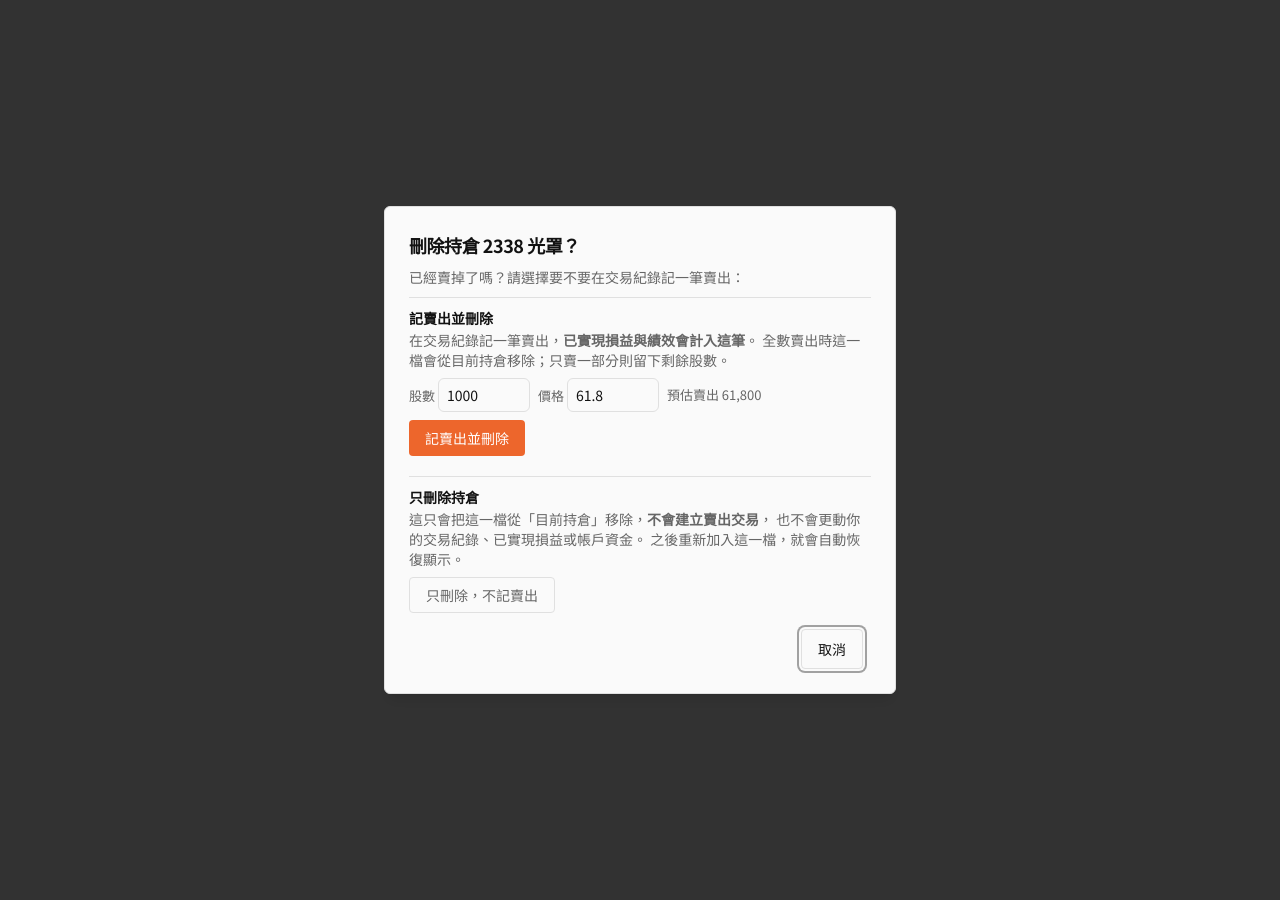
HoldingDeleteDialog 二選一 › oversell：顯示錯誤且不送出
Replace the text in the number field with test id "holding-delete-sell-qty" with "2000" at {"x": 484, "y": 395}, box [438, 378, 530, 412]
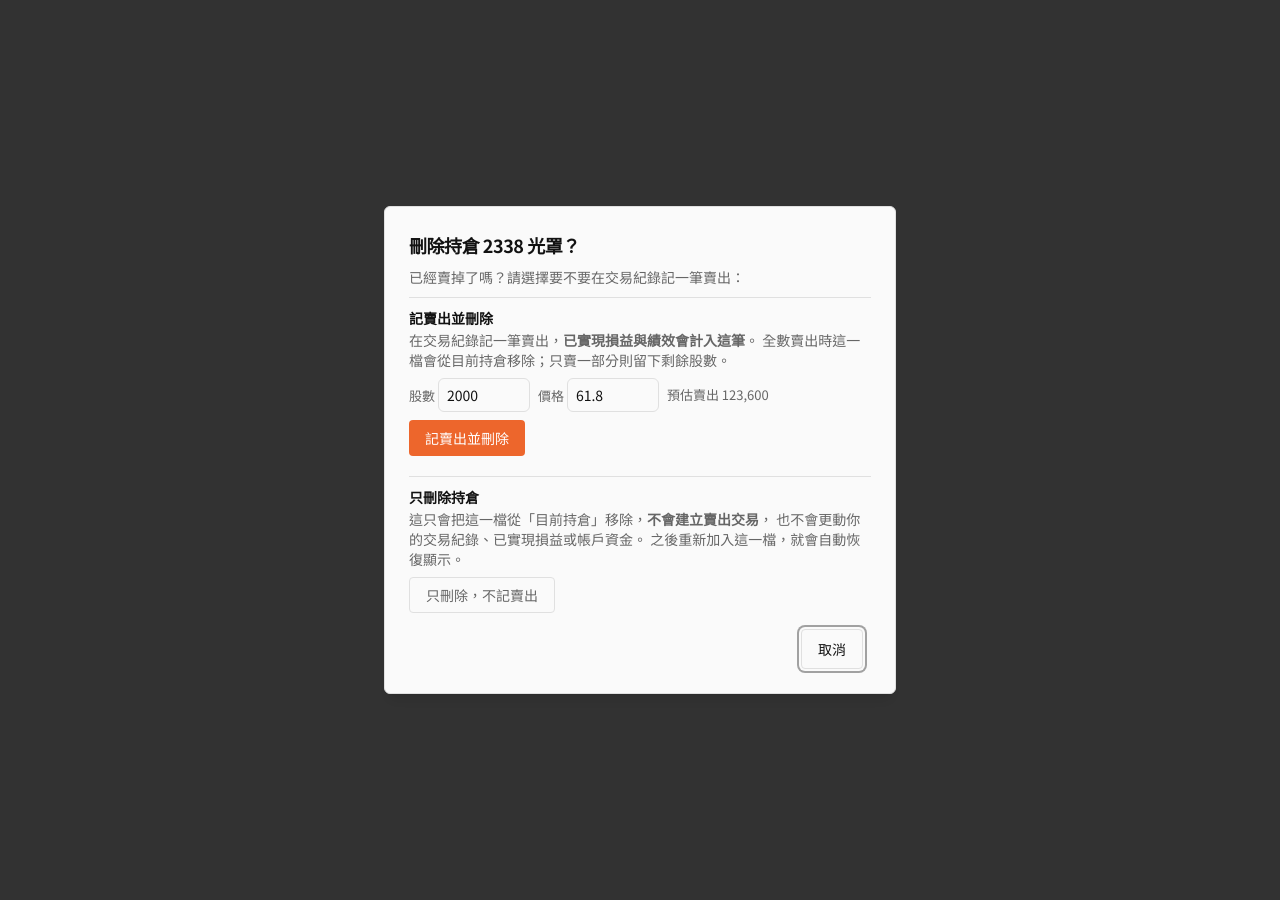
Click the button with test id "holding-delete-sell".
click(467, 438)  # box [409, 420, 525, 456]
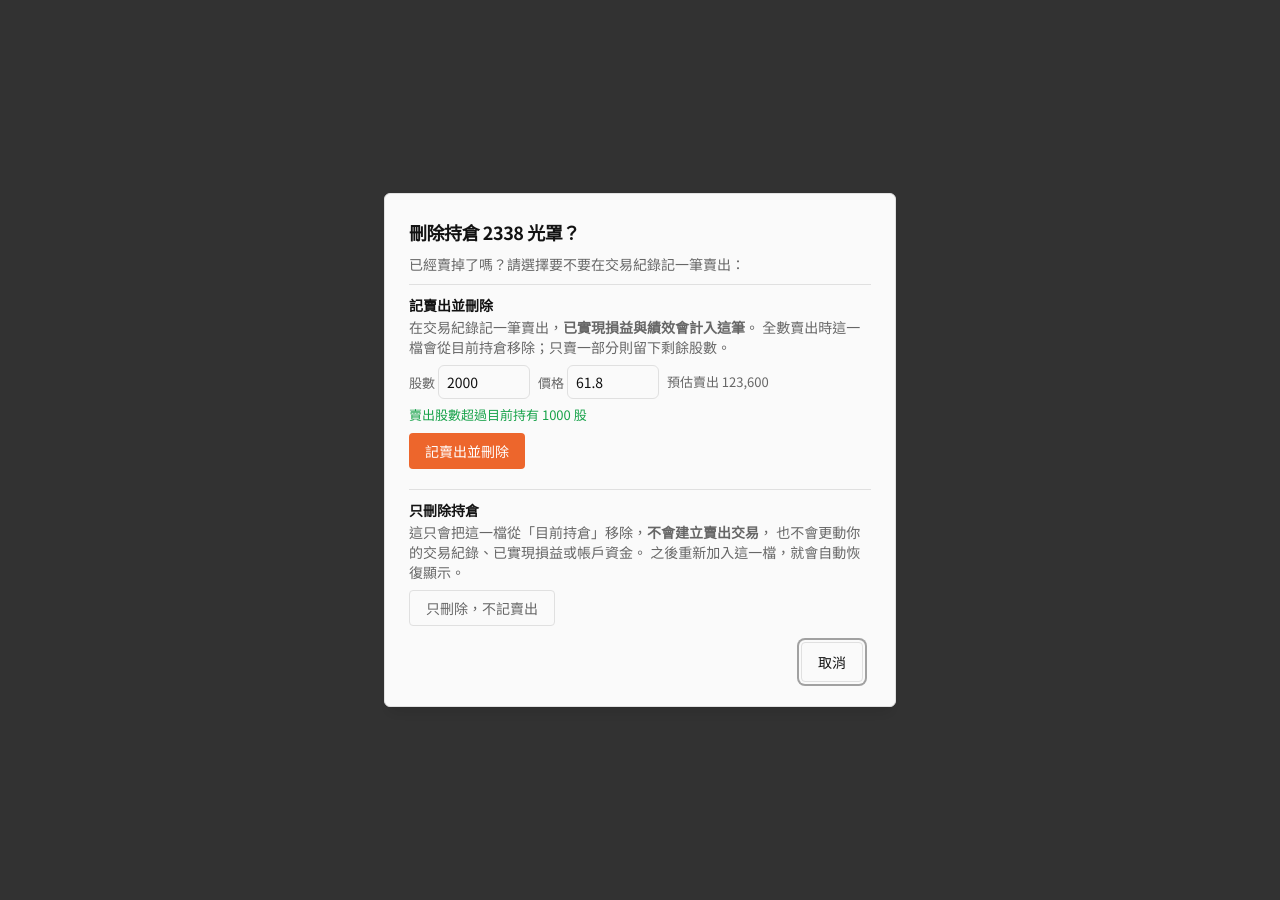
Check: the text with test id "holding-delete-error" shows "超過目前持有 1000 股", box [409, 405, 587, 424]
